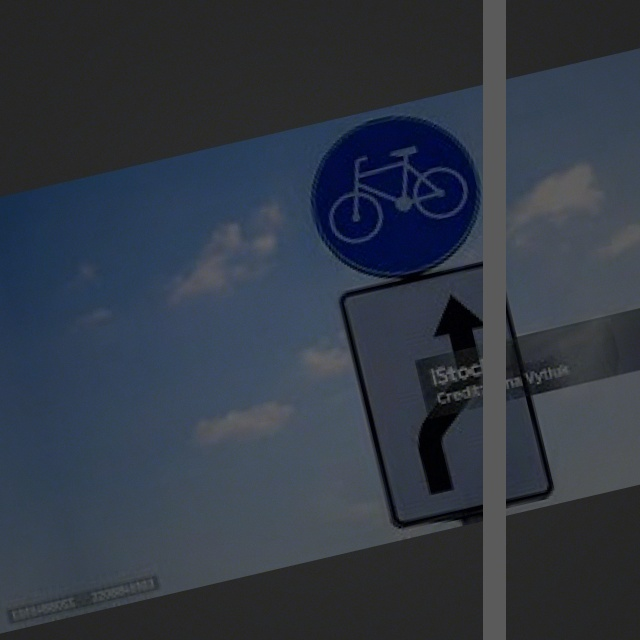Compulsory_Cycle_Track: (295, 100, 499, 291)
